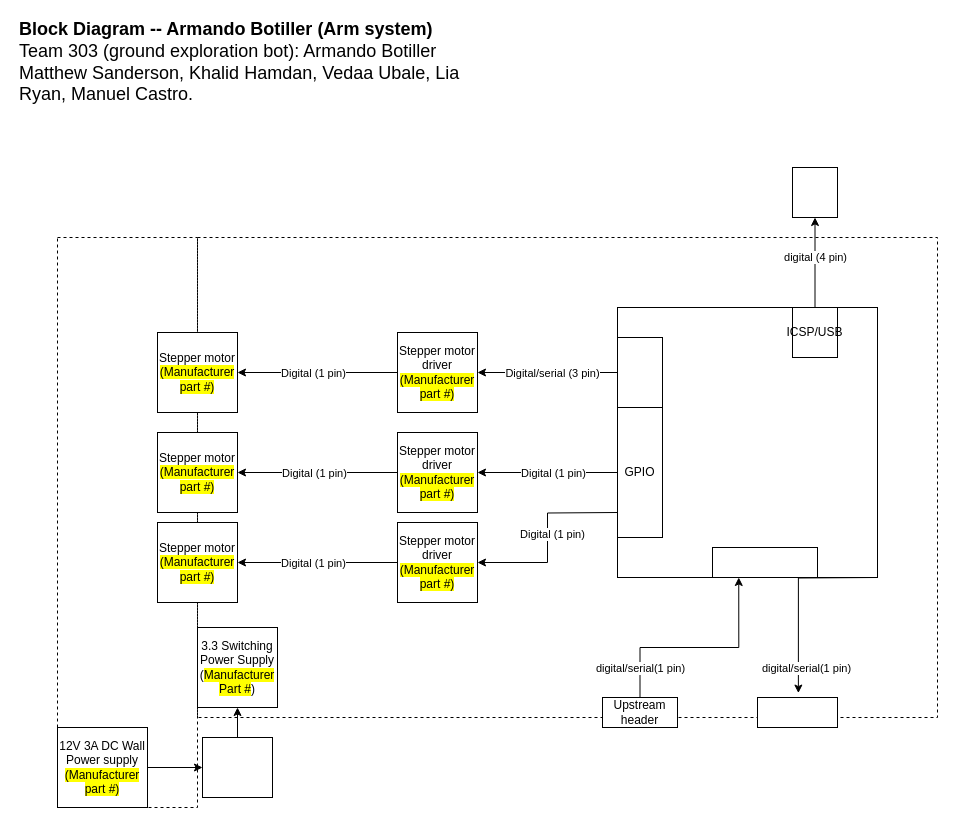
The diagram is 955 pixels wide and 825 high, and some of its shapes have lost their labels. The shapes that lost their labels are listed below. From the top down, each one's box as (x1, y1, x2, y2) in pixels, then its label:
(792, 166, 838, 218): PC
(616, 336, 662, 408): SPI or I2C
(616, 306, 878, 578): Microcontroller (Espressif Systems ESP32-VROOM-32D)
(712, 546, 818, 578): UART
(756, 696, 838, 728): Downstream header
(202, 736, 272, 798): Barrel Jack Adapter
